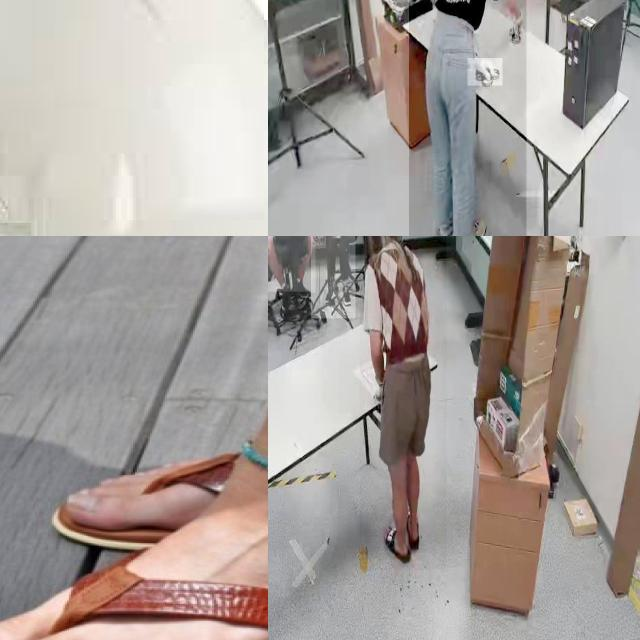Sandals: (0, 490, 268, 640)
hand_glove: (467, 58, 503, 86)
person: (359, 236, 446, 570), (409, 0, 527, 236), (311, 236, 356, 319), (268, 236, 315, 292)
shoes: (451, 214, 488, 236), (293, 275, 313, 304), (278, 285, 294, 313)
